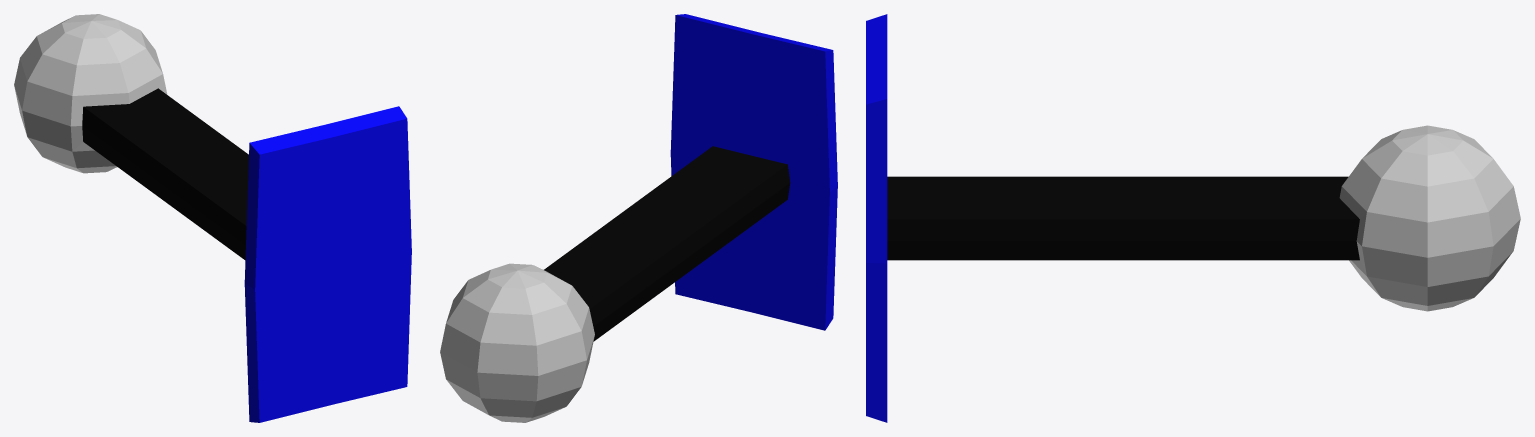
Rendered from anim2.obj.
The picture shows the model from 3 angles, left to right: view 1: azimuth 30°, elevation 25°; view 2: azimuth 150°, elevation 25°; view 3: azimuth 270°, elevation 25°; orthographic projection. The views are drawn at different scales.
Visible parts, largest first — view 1: Sphere; view 2: Sphere; view 3: Sphere.
Part boxes in pixels (x1,y1,x2,y2): Sphere: (14, 14, 411, 422); Sphere: (440, 14, 837, 422); Sphere: (866, 14, 1520, 422).
Bounding box in the file's own units: 2.29 × 3.84 × 7.03.
